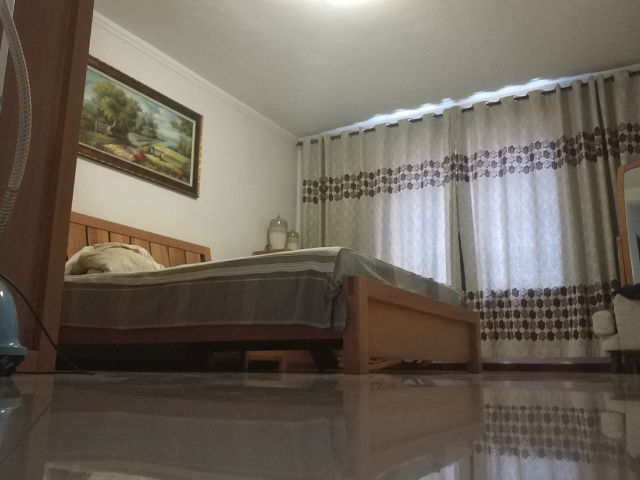bed: (58, 210, 485, 376)
cabinet: (1, 1, 96, 376)
curtain: (452, 66, 640, 361)
